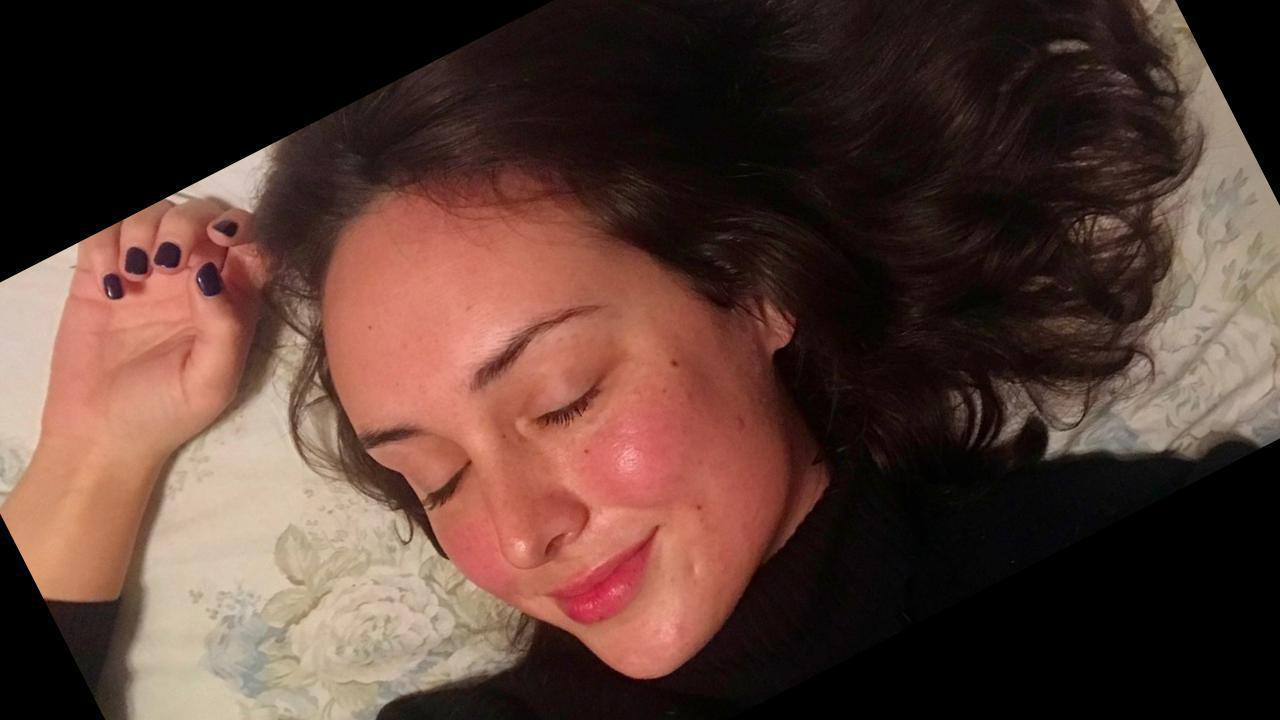Drunk: (314, 209, 771, 672)
